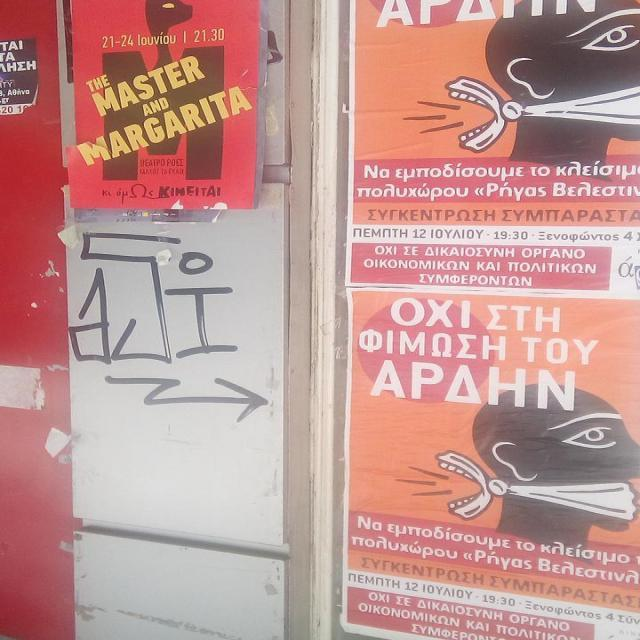nonspitting: (72, 230, 266, 422)
